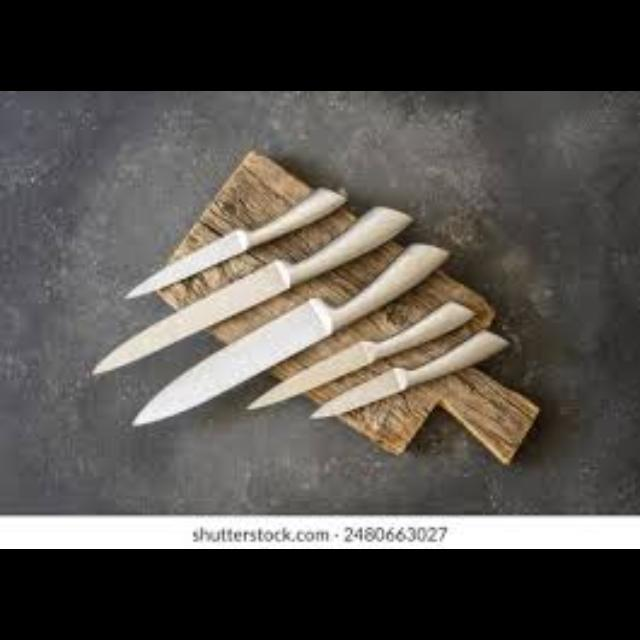Knife: (131, 242, 449, 426), (90, 204, 412, 376), (244, 298, 476, 409), (123, 185, 347, 298), (307, 328, 509, 419)
